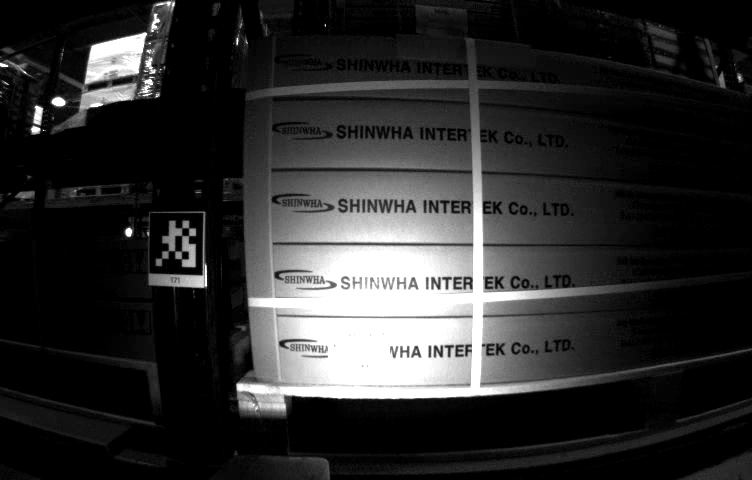True Barcode: (328, 327, 392, 376)
